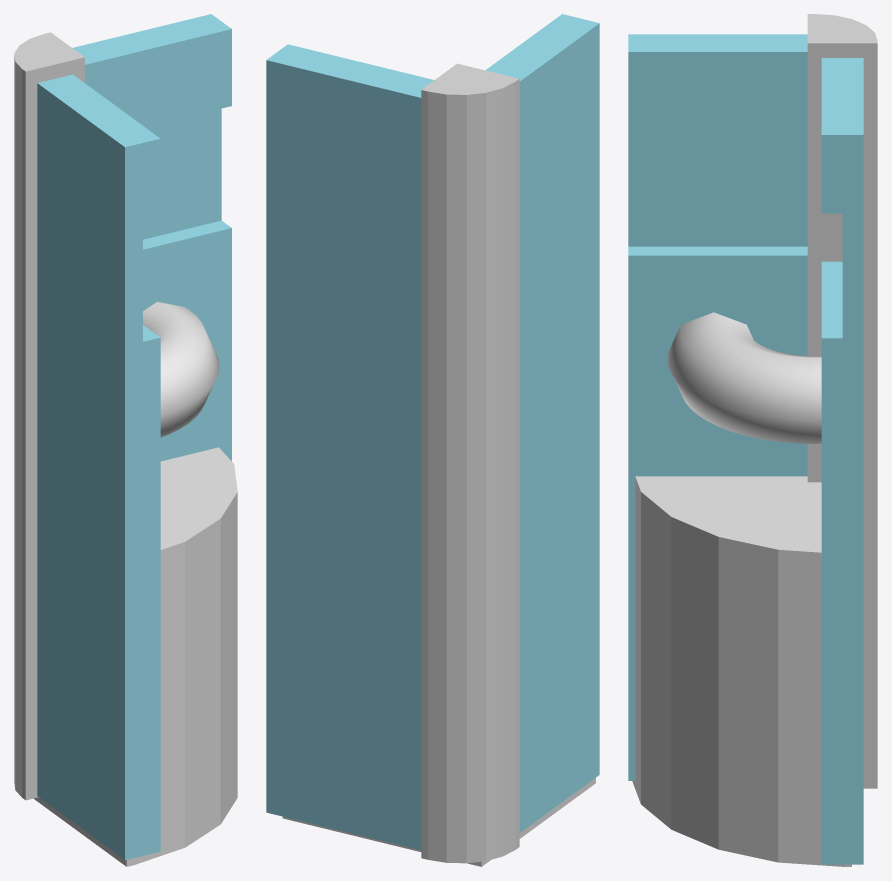
The model's file is MurCote1.fbx.
3 renders of one model, left to right at view 1: azimuth 30°, elevation 25°; view 2: azimuth 150°, elevation 25°; view 3: azimuth 270°, elevation 25°, orthographic. The views are drawn at different scales.
Parts seen in each view (by area): view 1: Cube.008, Cube.009, Cube.012, Cube.004, BézierCircle; view 2: Cube.009, Cube.004, Cube.008, Cube.012; view 3: Cube.008, Cube.012, Cube.009, Cube.004, BézierCircle.
Boxes of the visible parts, x1=… form: Cube.008: x1=37, y1=74, x2=160, y2=860; Cube.009: x1=72, y1=14, x2=231, y2=461; Cube.012: x1=34, y1=447, x2=237, y2=866; Cube.004: x1=14, y1=32, x2=84, y2=800; BézierCircle: x1=143, y1=302, x2=219, y2=437; Cube.009: x1=266, y1=44, x2=434, y2=850; Cube.004: x1=421, y1=63, x2=519, y2=863; Cube.008: x1=485, y1=14, x2=599, y2=832; Cube.012: x1=282, y1=778, x2=595, y2=866; Cube.008: x1=628, y1=34, x2=807, y2=780; Cube.012: x1=632, y1=476, x2=851, y2=866; Cube.009: x1=821, y1=58, x2=863, y2=864; Cube.004: x1=807, y1=14, x2=877, y2=788; BézierCircle: x1=667, y1=312, x2=821, y2=443.
Bounding box in the file's own units: 401 × 1324 × 398.
